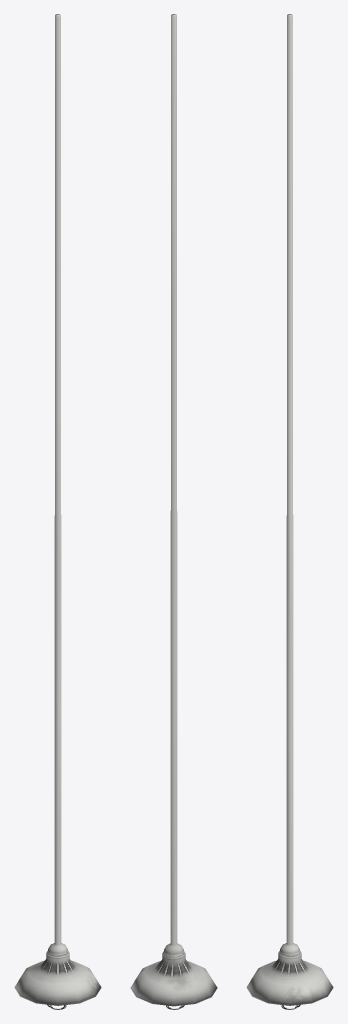
File: Lamp1.FBX
3 views of the same model, side by side, from view 1: azimuth 30°, elevation 25°; view 2: azimuth 150°, elevation 25°; view 3: azimuth 330°, elevation 25° (orthographic).
Parts seen in each view (by area): view 1: Object023; view 2: Object023; view 3: Object023.
Part boxes in pixels (bbox=[...]): Object023: bbox=[14, 14, 101, 1009]; Object023: bbox=[130, 14, 217, 1009]; Object023: bbox=[246, 14, 333, 1009].
Bounding box in the file's own units: 58.13 × 729 × 58.13.
